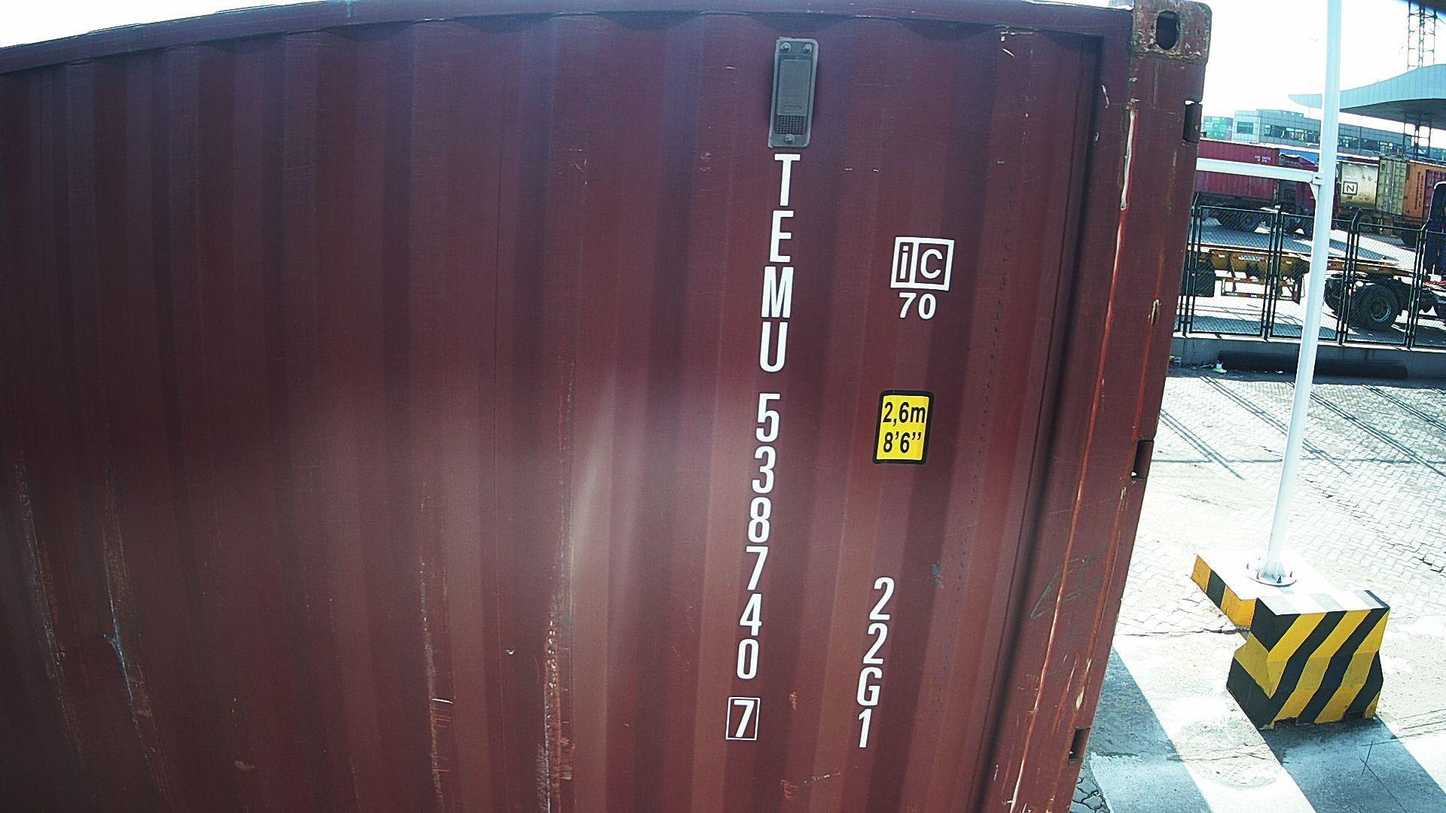container-numbers: (718, 147, 805, 751), (848, 570, 899, 758)
